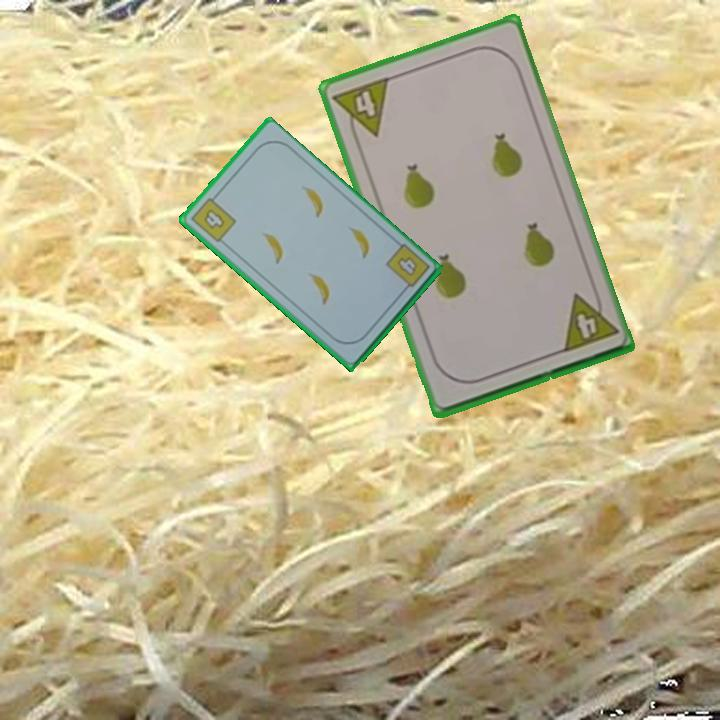4b: (187, 190, 239, 245), (382, 240, 433, 296)
4p: (329, 73, 392, 146), (558, 285, 621, 356)
